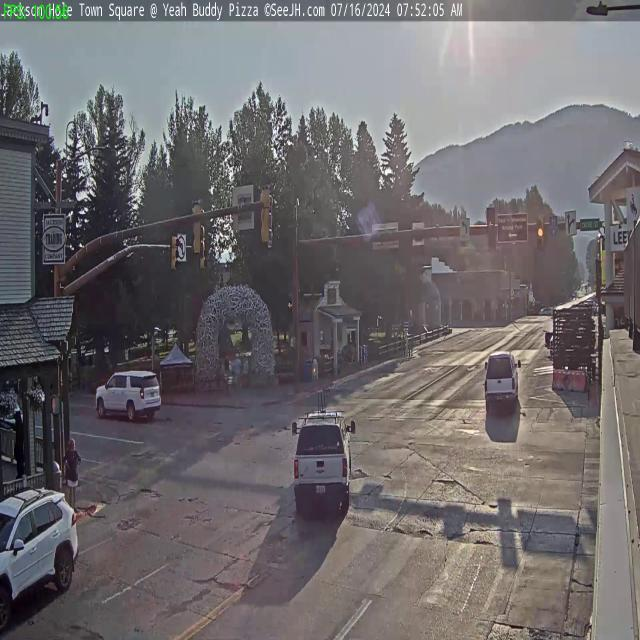person: (65, 440, 80, 508)
suv: (0, 482, 80, 618), (293, 418, 353, 514), (95, 368, 162, 425), (484, 351, 519, 412)
traffic light: (260, 184, 272, 245), (191, 200, 203, 256), (487, 206, 497, 251), (171, 235, 179, 272), (536, 215, 544, 246)
